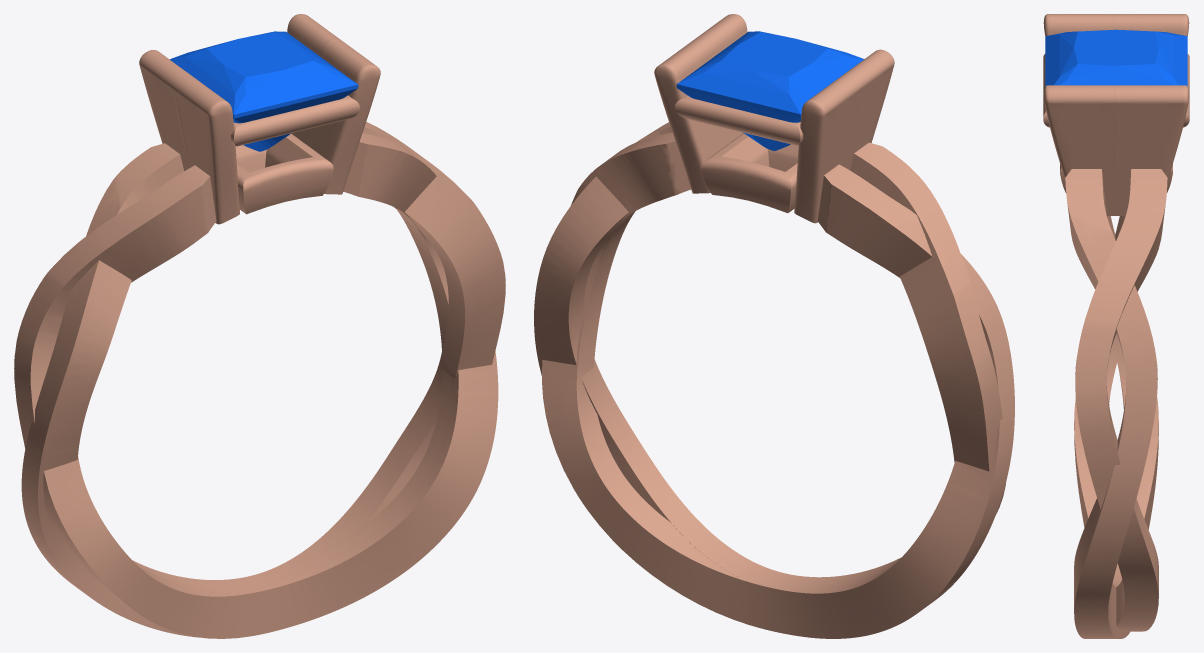
File: bluesapphire-princess-rosegold-halfmoonbezel-twist-nosidestones.glb
3 renders of one model, left to right at view 1: azimuth 30°, elevation 25°; view 2: azimuth 150°, elevation 25°; view 3: azimuth 270°, elevation 25°, orthographic.
Parts seen in each view (by area): view 1: metal.003, stone; view 2: metal.003, stone; view 3: metal.003, stone.
Part boxes in pixels (<box>): metal.003: <box>14,14,505,638</box>; stone: <box>170,31,358,151</box>; metal.003: <box>534,14,1014,638</box>; stone: <box>676,31,864,150</box>; metal.003: <box>1043,14,1189,638</box>; stone: <box>1045,29,1187,86</box>.
Size of the model in its own units: 19.97 by 23.76 by 5.6.
